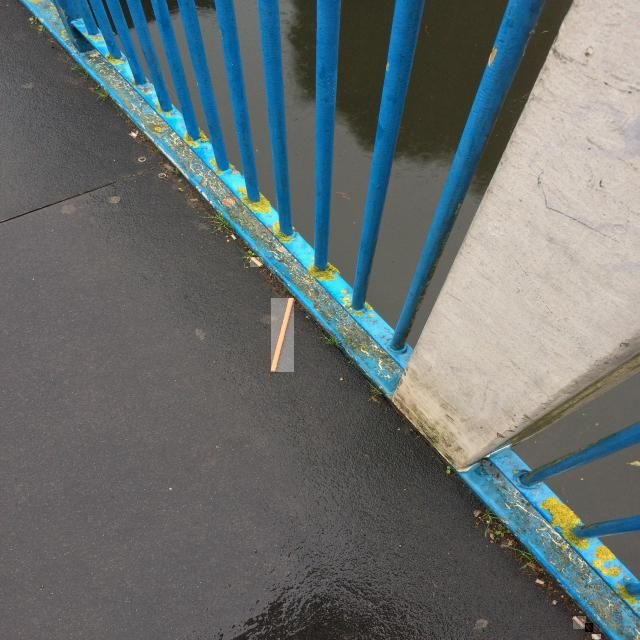Cigarette: (573, 617, 585, 629), (250, 257, 263, 267), (585, 623, 593, 632), (592, 634, 600, 640)
Straw: (271, 299, 294, 372)
